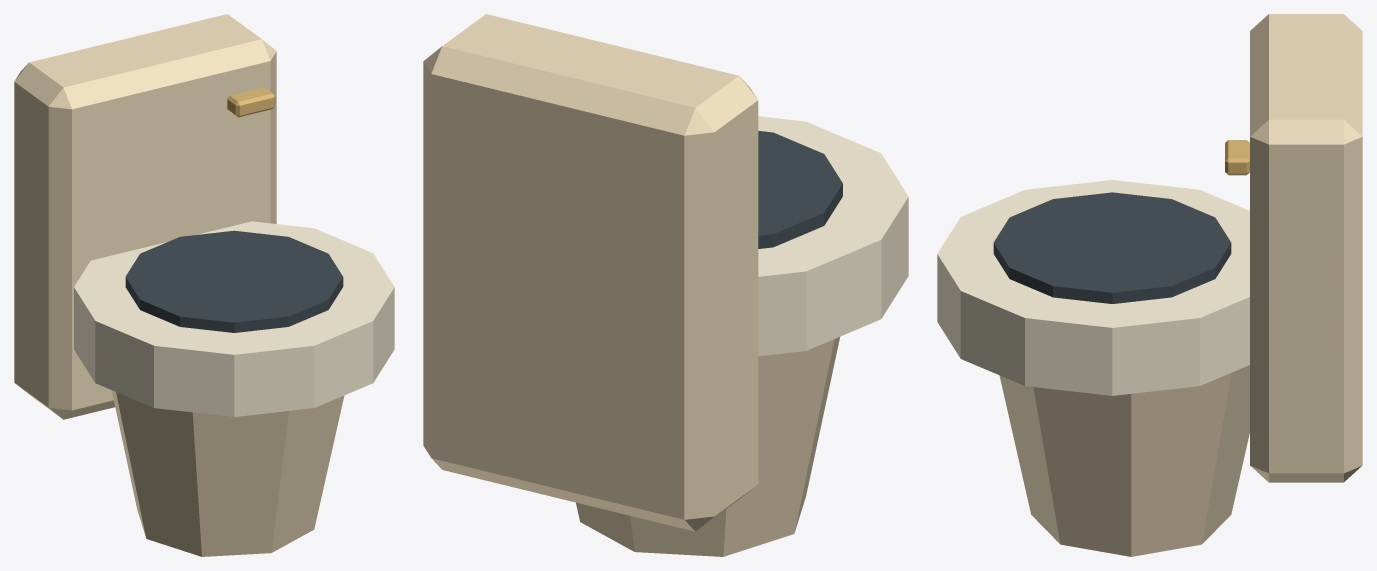
File: SM_CH_Paper_Toilet.fbx
3 renders of one model, left to right at view 1: azimuth 30°, elevation 25°; view 2: azimuth 150°, elevation 25°; view 3: azimuth 270°, elevation 25°, orthographic. The views are drawn at different scales.
Parts seen in each view (by area): view 1: SM_CH_Paper_Toilet; view 2: SM_CH_Paper_Toilet; view 3: SM_CH_Paper_Toilet.
Part boxes in pixels (x1,y1,x2,y2): SM_CH_Paper_Toilet: (14,14,394,556); SM_CH_Paper_Toilet: (423,14,908,556); SM_CH_Paper_Toilet: (937,14,1362,556).
Size of the model in its own units: 5600 by 6800 by 7900.
